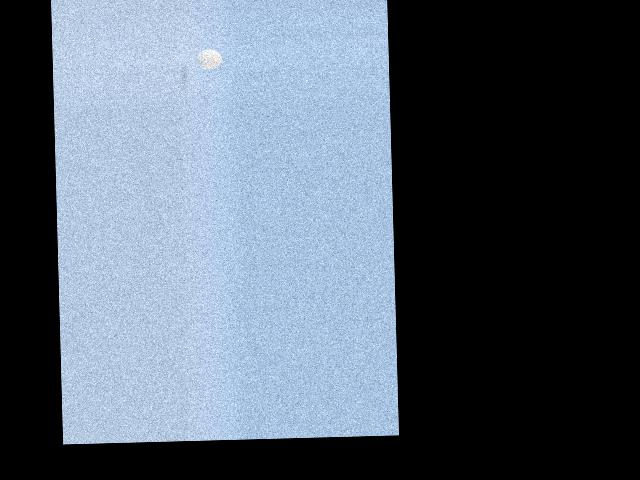egg: (196, 48, 222, 69)
